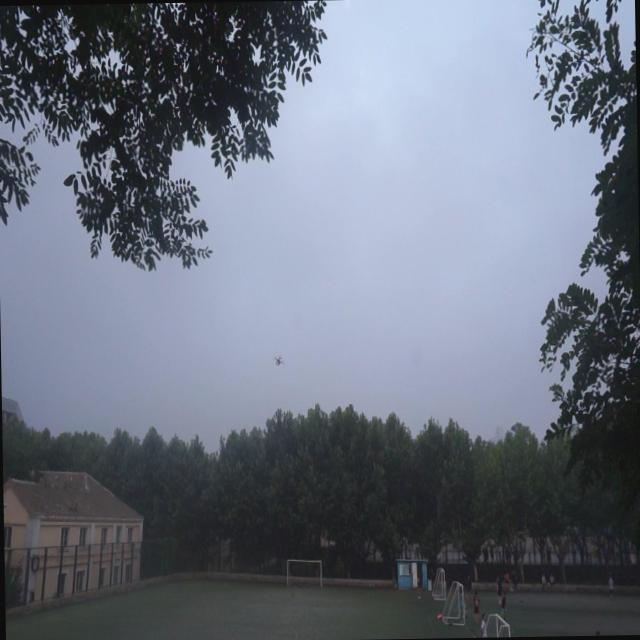drone: (272, 351, 284, 368)
